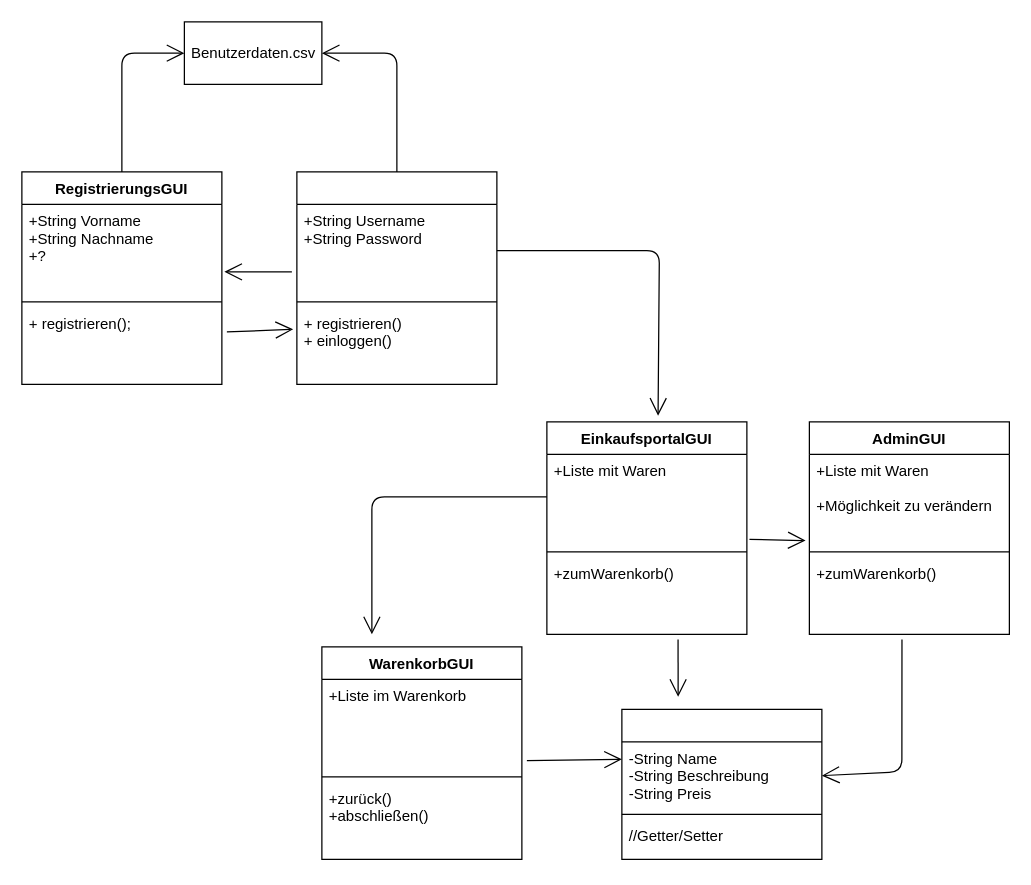
This 1031x885 diagram has some shape labels left out. Here are the shapes that lost their labels. From the top down, the box of each, then its label:
(296, 171, 497, 384): LoginGUI
(621, 708, 822, 859): Ware
